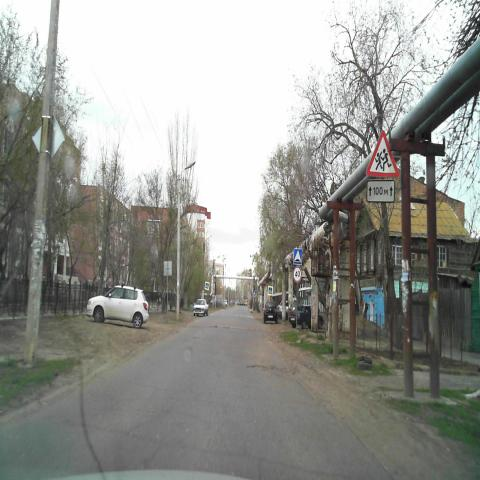8_2_1: (366, 178, 394, 205)
